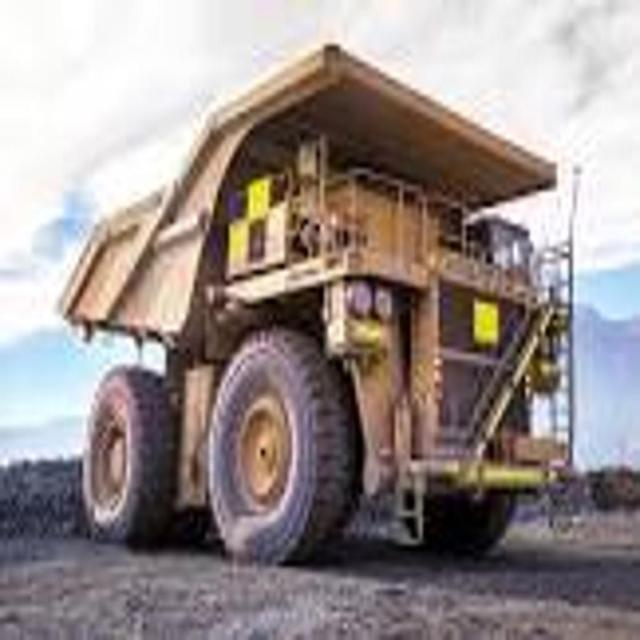dump_truck: (56, 36, 589, 578)
